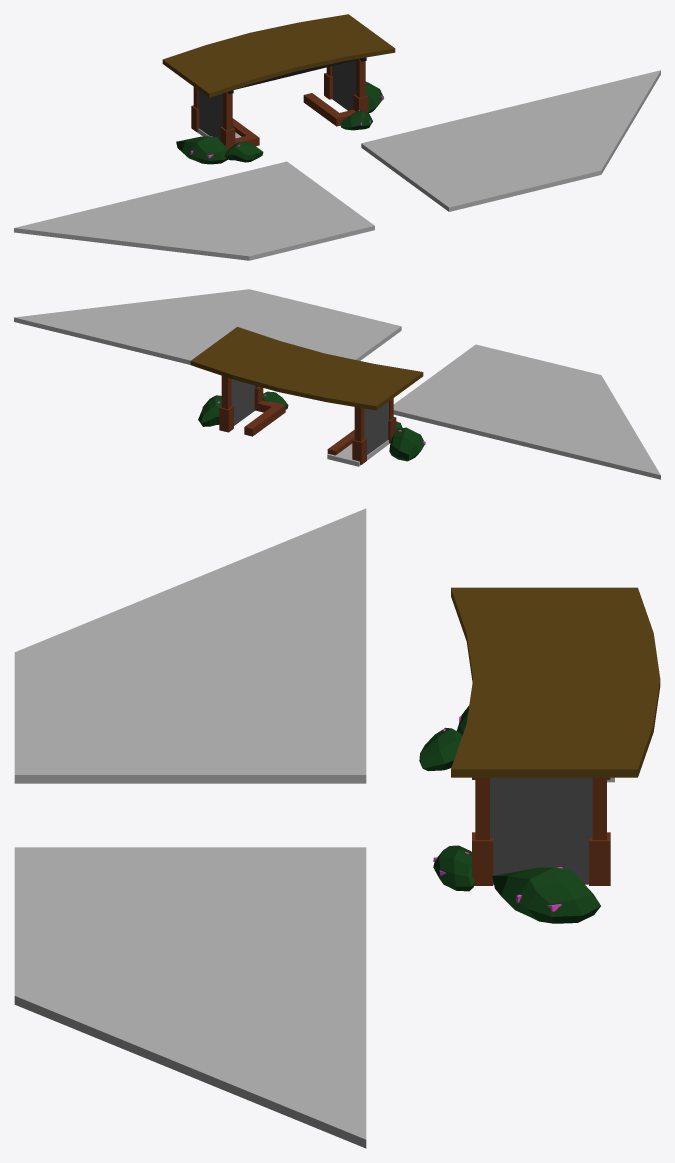
Rendered from Entrance_Level_4.fbx.
The picture shows the model from 3 angles, top to bottom: view 1: azimuth 30°, elevation 25°; view 2: azimuth 150°, elevation 25°; view 3: azimuth 270°, elevation 25°; orthographic projection. The views are drawn at different scales.
Visible parts, largest first — view 1: Ingang; view 2: Ingang; view 3: Ingang.
Boxes of the visible parts, x1=… form: Ingang: x1=14, y1=14, x2=660, y2=260; Ingang: x1=14, y1=289, x2=660, y2=479; Ingang: x1=14, y1=508, x2=660, y2=1148.
Bounding box in the file's own units: 10465 × 1187 × 4521.
